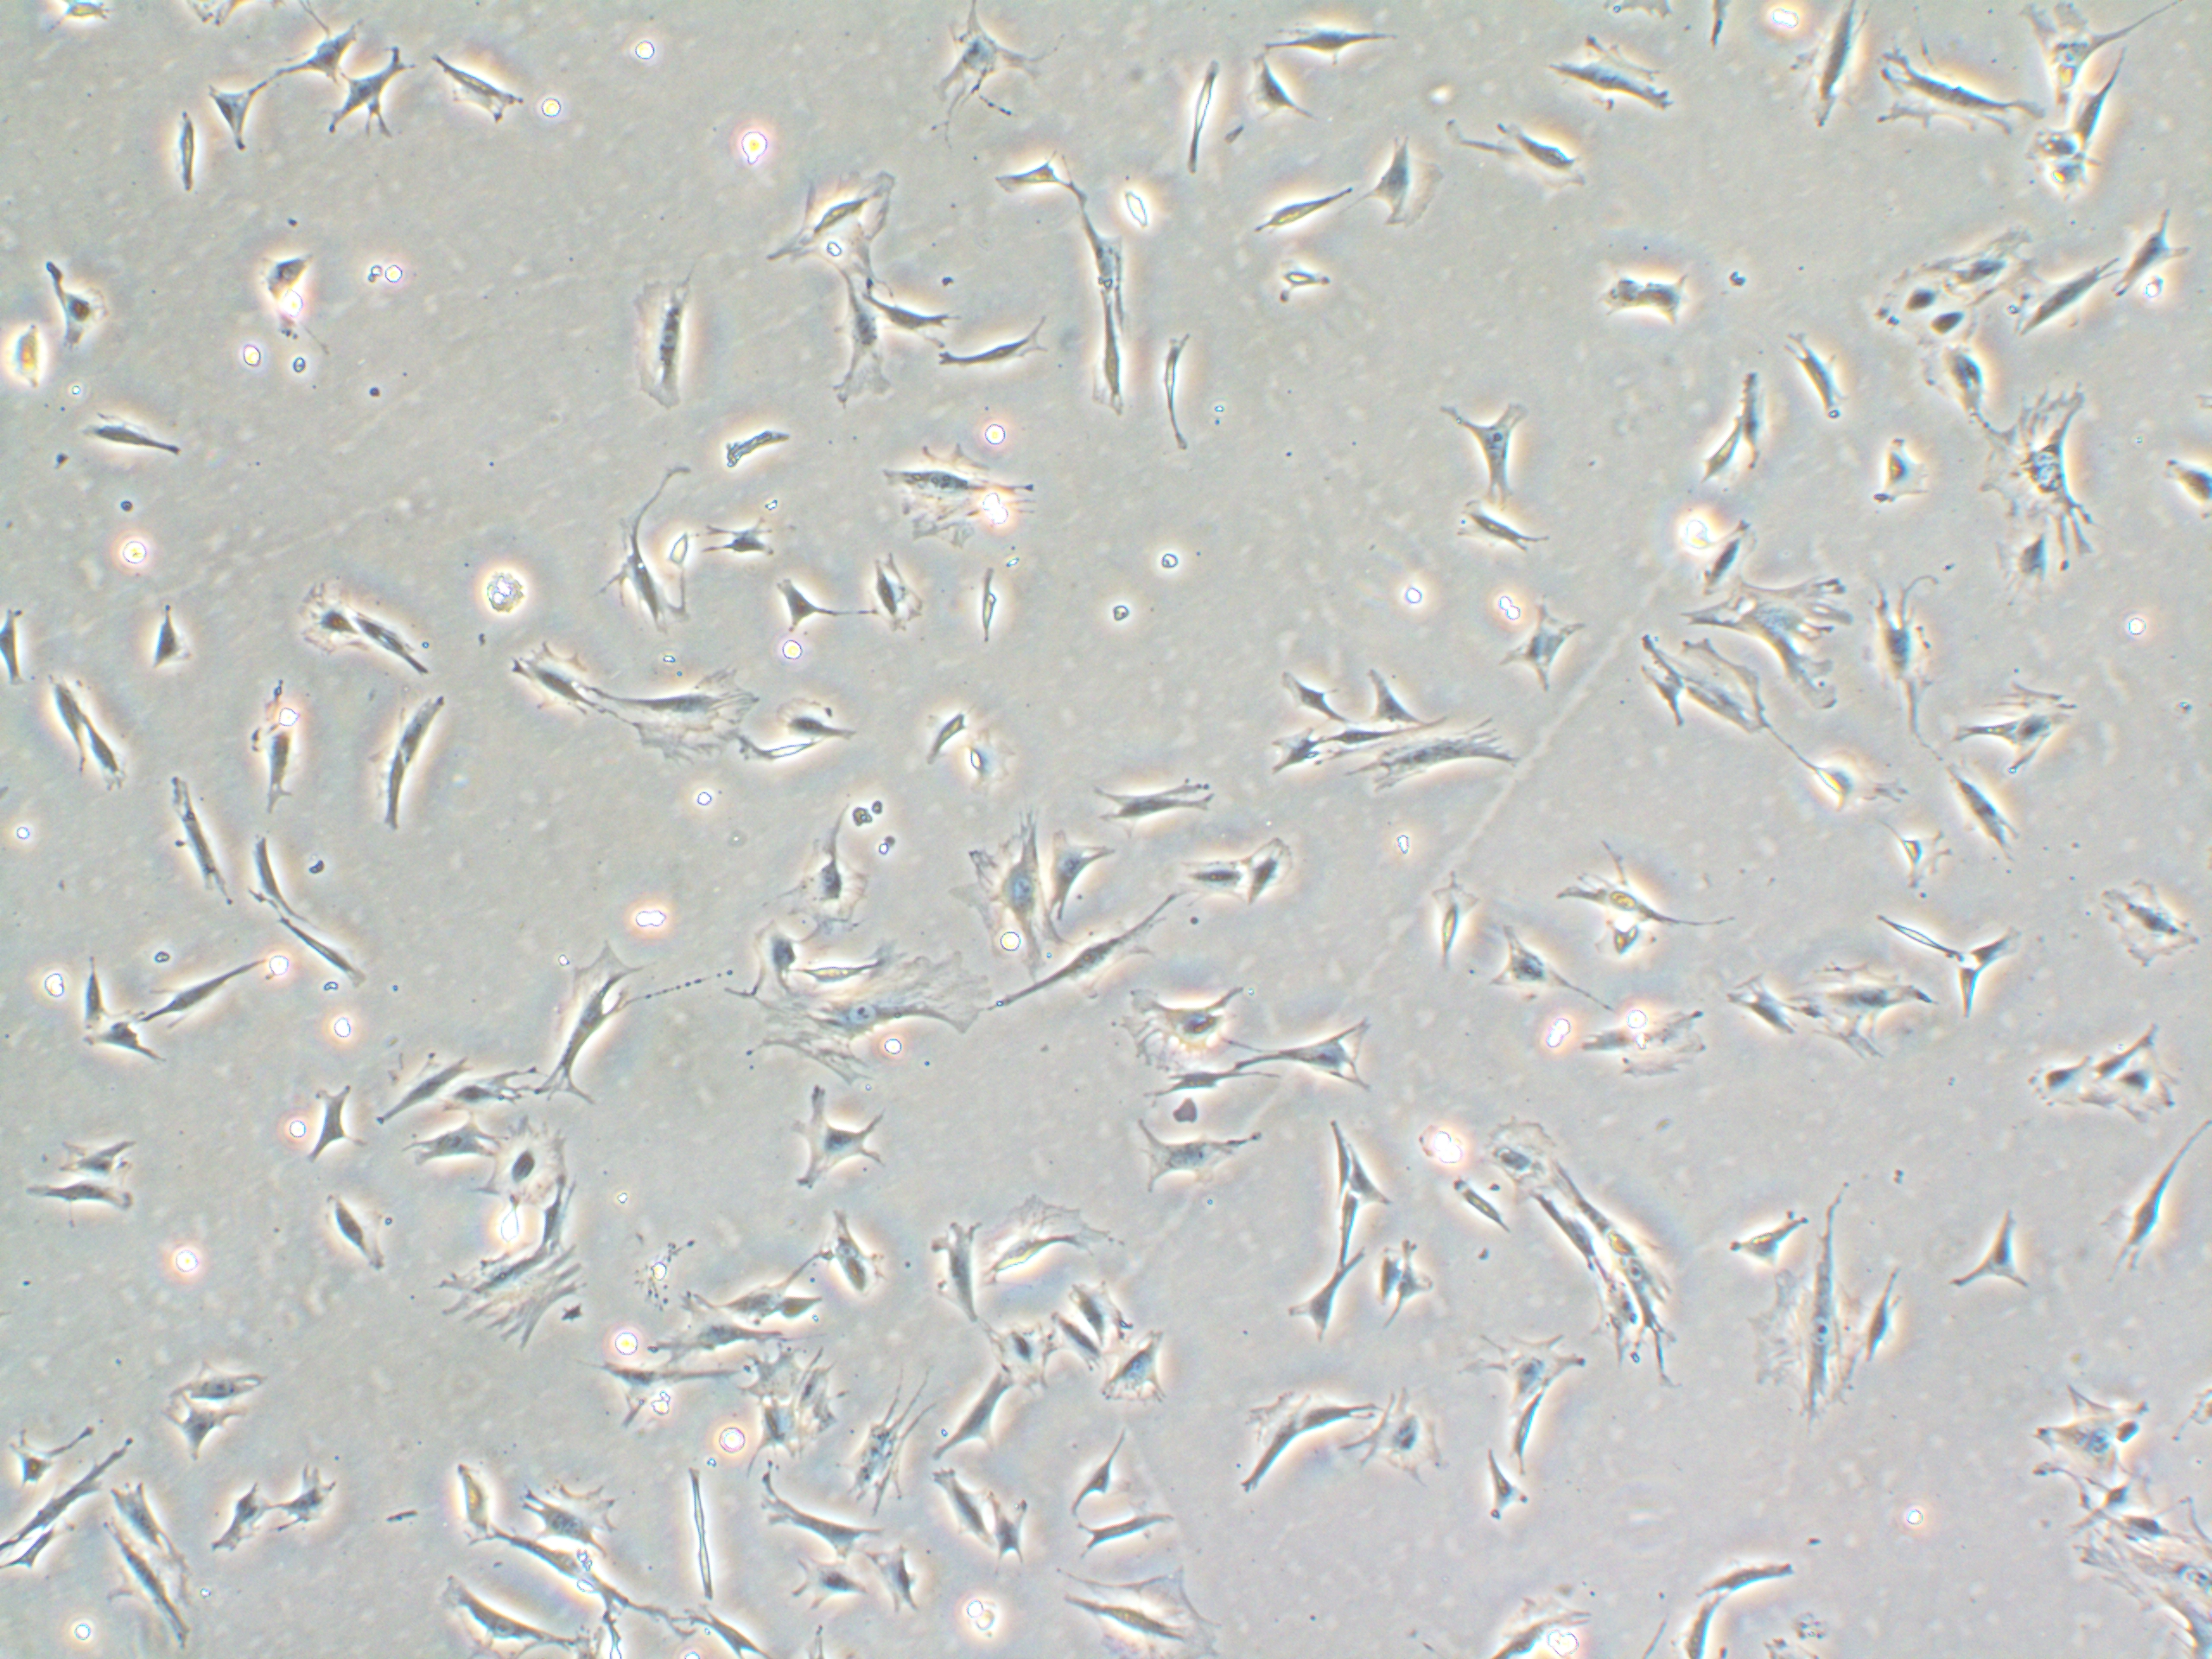Etc: (1411, 861, 1489, 1004), (1179, 33, 1231, 197), (1148, 329, 1209, 464), (967, 563, 1028, 666), (676, 1459, 719, 1539), (686, 1539, 740, 1598)
polygonal: (984, 892, 1172, 1030), (2088, 1114, 2212, 1284), (536, 941, 665, 1101), (479, 1516, 657, 1628), (1872, 44, 2052, 150), (772, 1073, 895, 1225), (1428, 368, 1552, 511), (1771, 943, 1928, 1054), (1545, 17, 1695, 129), (2, 1429, 132, 1553), (608, 242, 698, 418), (99, 1514, 218, 1649), (1482, 908, 1609, 1026), (1527, 1148, 1658, 1263), (1454, 1314, 1597, 1410), (1944, 669, 2083, 767), (747, 1460, 883, 1558), (921, 10, 1040, 122), (425, 1567, 566, 1659), (1940, 1188, 2048, 1309), (127, 953, 282, 1037), (420, 37, 543, 139), (1480, 99, 1588, 214), (1122, 1122, 1277, 1201), (1491, 598, 1602, 706), (1364, 105, 1449, 244), (2001, 246, 2116, 349), (587, 1354, 744, 1429), (1514, 1182, 1618, 1293), (152, 770, 240, 901), (1867, 558, 1928, 748), (923, 310, 1069, 389), (1235, 1012, 1379, 1091), (1771, 317, 1867, 434), (369, 1044, 486, 1138), (1451, 490, 1573, 577), (1270, 1246, 1372, 1345), (319, 44, 415, 150), (1217, 1382, 1303, 1500), (498, 631, 601, 728), (1932, 758, 2027, 861), (650, 1281, 775, 1358), (237, 823, 320, 936), (813, 1208, 904, 1312), (1224, 40, 1324, 134), (1054, 1413, 1141, 1520), (1656, 1547, 1817, 1605), (1036, 819, 1116, 934), (1259, 14, 1407, 75), (920, 1371, 1010, 1469), (1465, 1445, 1554, 1544), (719, 1246, 829, 1326), (2064, 47, 2149, 150), (263, 913, 374, 992), (282, 572, 373, 667), (308, 1188, 397, 1286), (822, 277, 885, 415), (1090, 774, 1230, 835), (2116, 204, 2193, 314), (1285, 1366, 1381, 1453), (71, 404, 193, 472), (275, 16, 371, 101), (153, 1396, 265, 1469), (239, 694, 308, 809), (1721, 960, 1801, 1058), (37, 667, 105, 782), (1106, 1324, 1181, 1427), (1723, 1194, 1808, 1283), (871, 272, 961, 355), (12, 1169, 139, 1229), (1235, 823, 1308, 925), (923, 1459, 995, 1563), (2085, 1014, 2168, 1103), (279, 1457, 359, 1549), (152, 1349, 275, 1408), (206, 71, 289, 159), (127, 598, 202, 694), (763, 565, 846, 650), (1130, 1065, 1294, 1108), (1059, 1504, 1190, 1558), (432, 1060, 554, 1117), (355, 605, 442, 685), (206, 1474, 280, 1567), (925, 1208, 982, 1328), (1381, 1223, 1439, 1344), (773, 1556, 880, 1621), (1061, 1267, 1146, 1347), (1860, 1253, 1912, 1382), (38, 256, 111, 347), (982, 1312, 1055, 1401), (1089, 291, 1137, 423), (253, 237, 315, 340), (1268, 664, 1362, 732), (371, 694, 453, 770), (859, 1534, 930, 1621), (897, 697, 979, 772), (105, 1481, 188, 1554), (981, 1473, 1036, 1579), (857, 558, 937, 631), (1737, 355, 1782, 484), (780, 692, 866, 760), (352, 739, 409, 838), (1163, 842, 1245, 911), (397, 1122, 491, 1182), (2024, 1051, 2109, 1115), (153, 98, 206, 202), (1076, 204, 1127, 312), (1249, 725, 1355, 775), (0, 1525, 85, 1588), (1360, 662, 1432, 737), (312, 1080, 369, 1173), (54, 1129, 155, 1180), (737, 1405, 803, 1481), (982, 150, 1068, 209), (63, 945, 118, 1035), (679, 1598, 761, 1659), (1334, 1140, 1392, 1225), (75, 713, 131, 798), (1674, 1589, 1740, 1659), (690, 516, 787, 561), (1049, 1309, 1109, 1378), (80, 1018, 169, 1065), (1515, 1354, 1547, 1476), (1324, 720, 1453, 749), (1944, 964, 1996, 1033), (1961, 925, 2052, 965), (1317, 1107, 1353, 1199), (773, 1293, 841, 1333), (0, 596, 33, 678), (1372, 1223, 1400, 1305), (1329, 1192, 1357, 1272)
small-round: (1787, 0, 1874, 176), (1879, 823, 1980, 897), (1634, 249, 1724, 328), (1864, 425, 1932, 525), (954, 728, 1026, 805), (1252, 256, 1345, 312), (2, 314, 52, 413), (1585, 253, 1651, 326), (2038, 145, 2102, 216), (1108, 173, 1169, 240), (648, 518, 698, 573)
spread: (716, 951, 1017, 1075), (1669, 559, 1885, 711), (1959, 378, 2111, 577), (1749, 1201, 1867, 1432), (587, 657, 779, 795), (2074, 1495, 2212, 1652), (441, 1244, 620, 1359), (860, 444, 1059, 545), (1052, 1553, 1233, 1659), (948, 810, 1073, 962), (2013, 1364, 2146, 1507), (1343, 713, 1545, 802), (970, 1182, 1118, 1298), (1104, 983, 1282, 1072), (467, 1114, 596, 1234), (2080, 854, 2196, 972)
